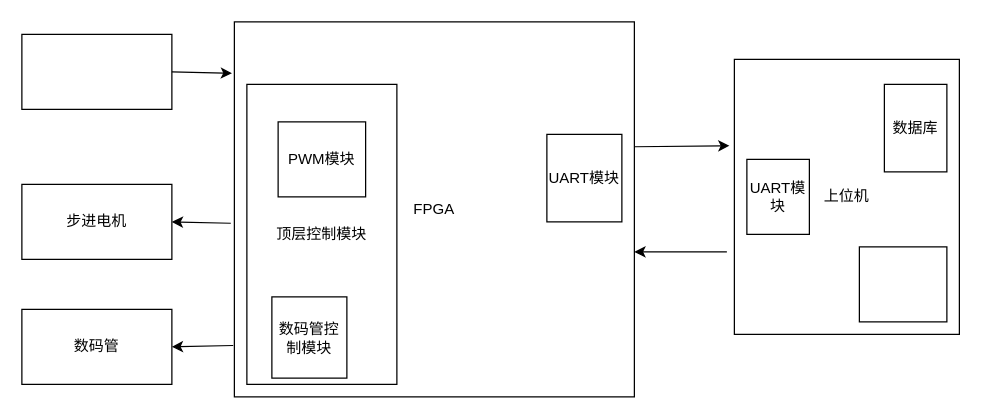
This 981x419 diagram has some shape labels left out. Each missing label, with the centre of its shape:
"数据库调用" goes at (902,284).
"测距传感器" goes at (96,71).
